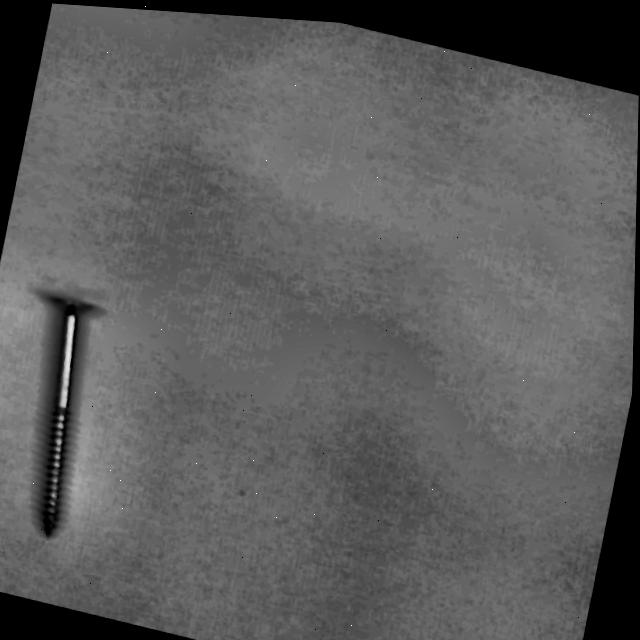Wood screw: (0, 286, 111, 542)
